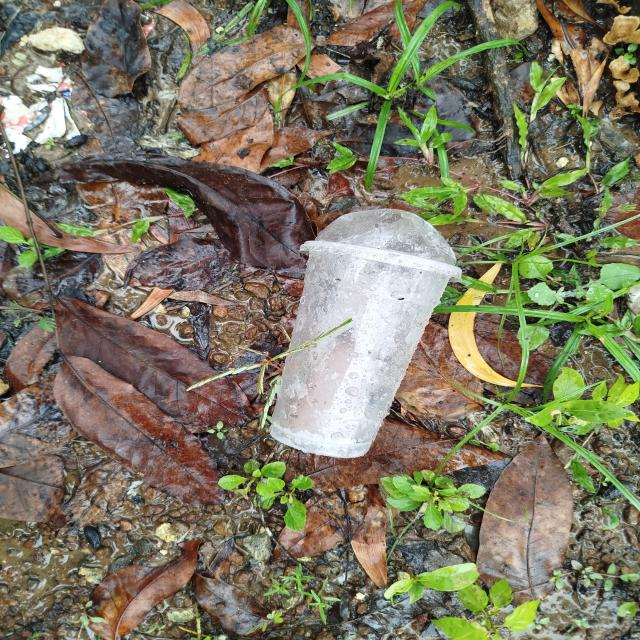plastic: (262, 186, 472, 467)
